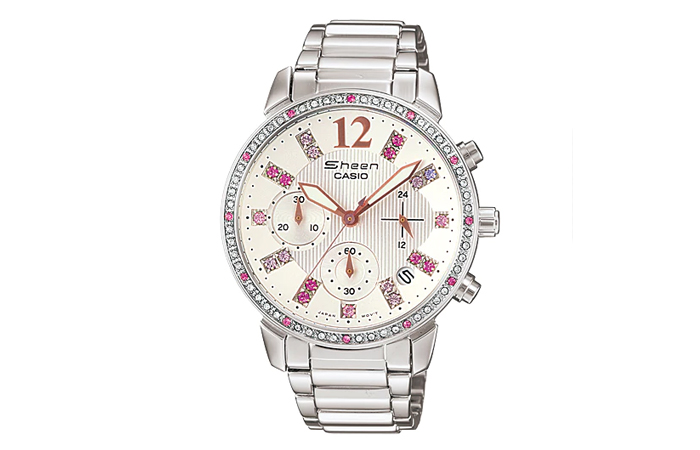clock: (219, 89, 482, 350)
